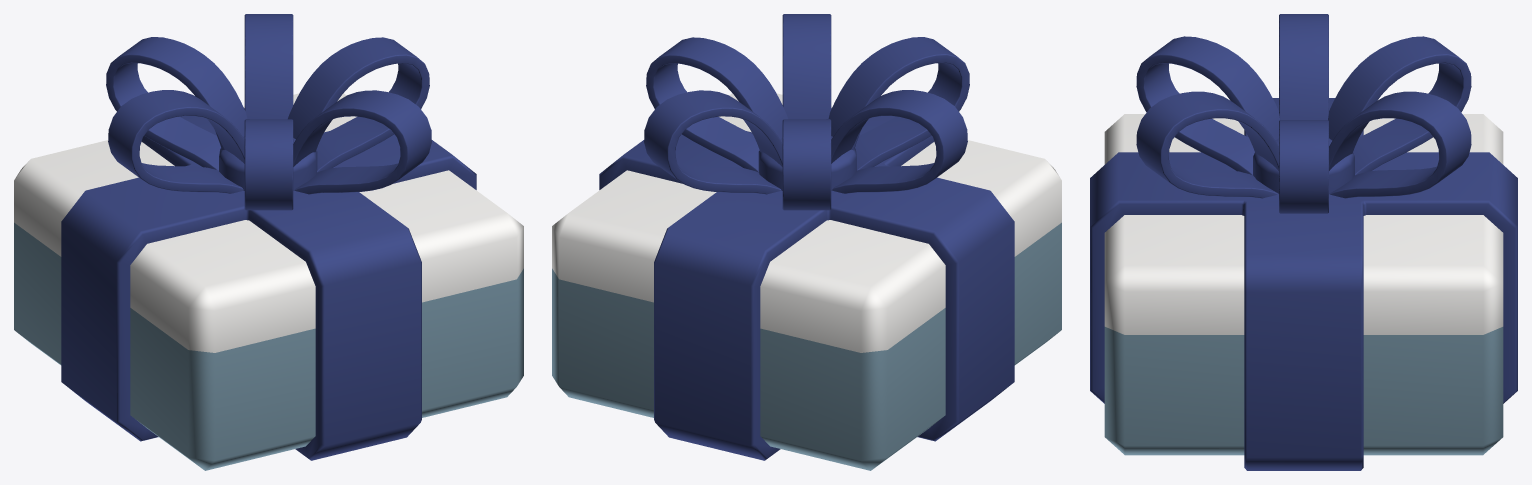
File: Present_3.glb
3 views of the same model, side by side, from view 1: azimuth 30°, elevation 25°; view 2: azimuth 150°, elevation 25°; view 3: azimuth 270°, elevation 25° (orthographic). The views are drawn at different scales.
Visible parts, largest first — view 1: Present_3; view 2: Present_3; view 3: Present_3.
Boxes of the visible parts, x1,y1,x2,y2 form: Present_3: (14,14,523,470); Present_3: (552,14,1061,470); Present_3: (1090,14,1517,470).
Size of the model in its own units: 0.2783 by 0.228 by 0.2783.
Materials: 1 (1 with a texture image).
